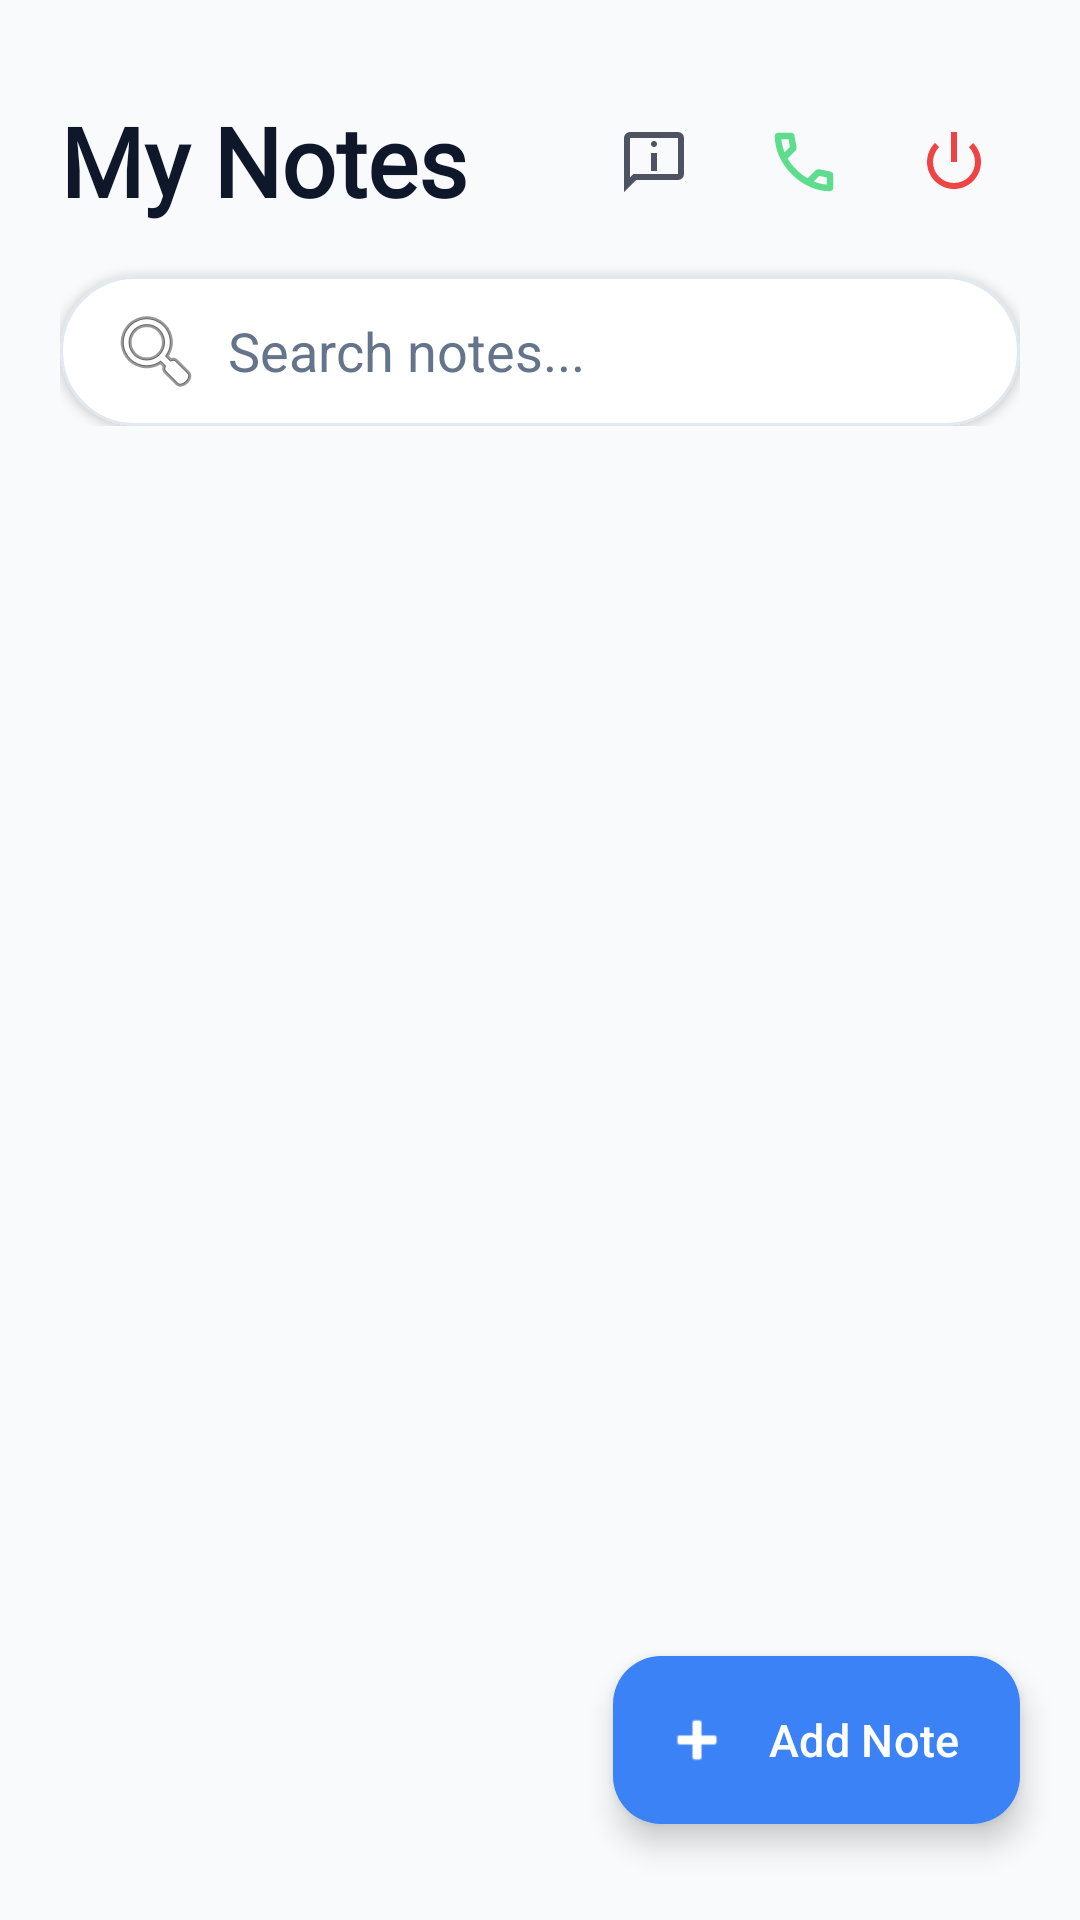

Locate icon controls on the screen. Image size 1080 × 1920, boxes as (x1, y1, x2, y2).
About App: (624, 132, 684, 192)
Contact Us: (774, 132, 834, 192)
